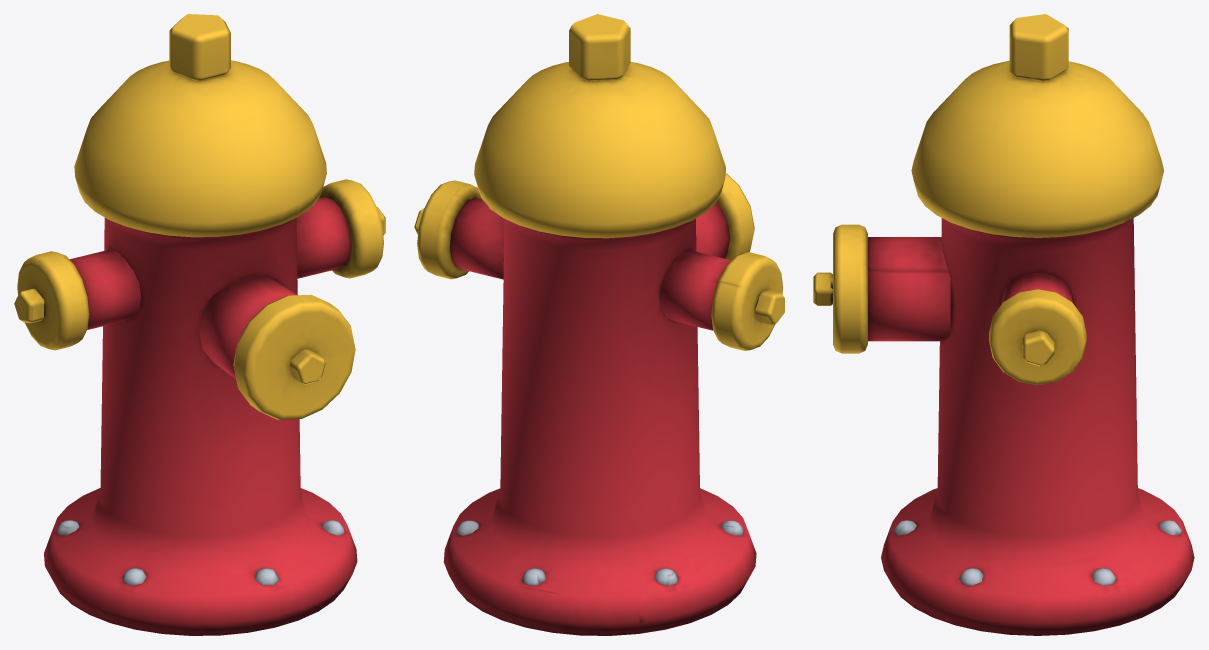
File: fire_hydrant.glb
The picture shows the model from 3 angles, left to right: view 1: azimuth 30°, elevation 25°; view 2: azimuth 150°, elevation 25°; view 3: azimuth 270°, elevation 25°; orthographic projection.
Visible parts, largest first — view 1: fire_hydrant; view 2: fire_hydrant; view 3: fire_hydrant.
Boxes of the visible parts, x1=… form: fire_hydrant: x1=14, y1=14, x2=385, y2=635; fire_hydrant: x1=414, y1=14, x2=784, y2=635; fire_hydrant: x1=813, y1=14, x2=1194, y2=635.
Bounding box in the file's own units: 0.475 × 0.695 × 0.4375.
Materials: 3 (3 with a texture image).
